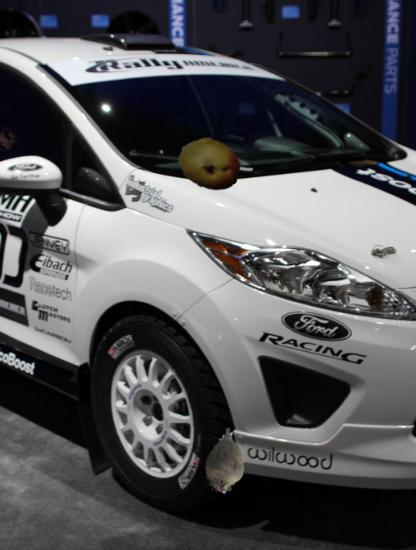Beetroot: (191, 427, 260, 496)
Papaya: (178, 132, 242, 196)
